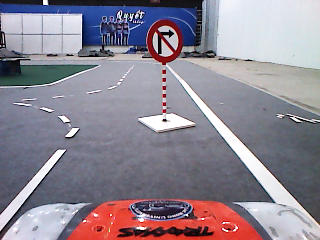ban: (146, 18, 183, 64)
